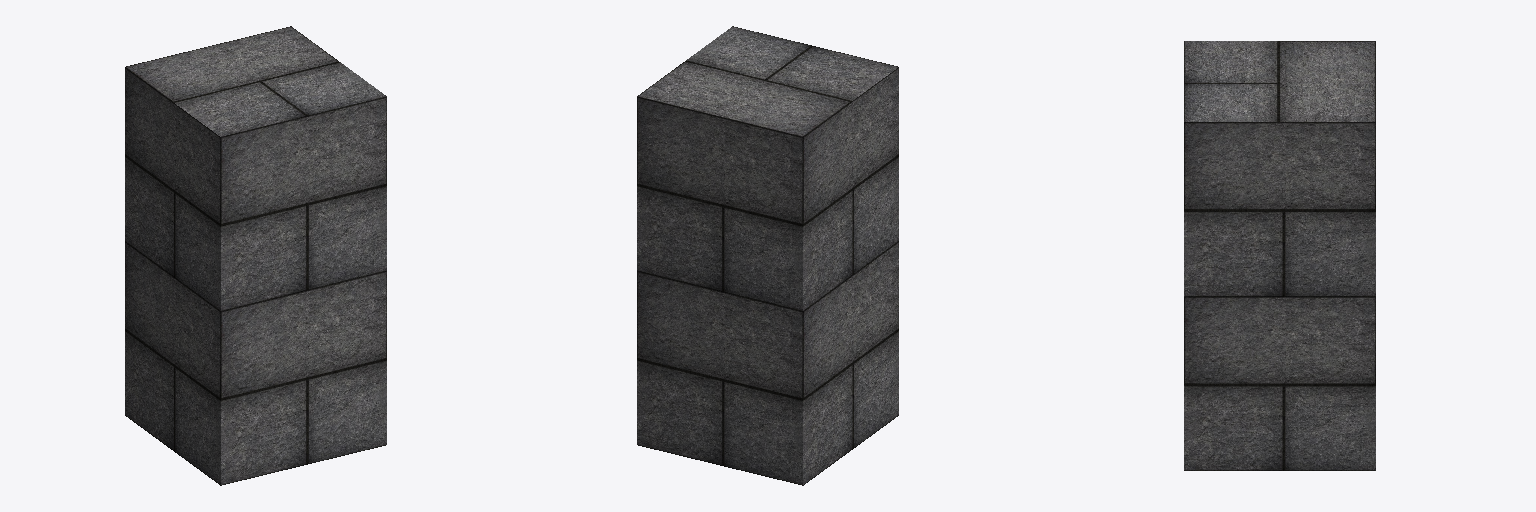
3 views of the same model, side by side, from view 1: azimuth 30°, elevation 25°; view 2: azimuth 150°, elevation 25°; view 3: azimuth 270°, elevation 25° (orthographic).
Parts seen in each view (by area): view 1: cube; view 2: cube; view 3: cube.
Boxes of the visible parts, x1,y1,x2,y2 form: cube: [125, 26, 386, 485]; cube: [637, 26, 898, 485]; cube: [1184, 41, 1375, 470].
Bounding box in the file's own units: 1 × 2 × 1.
1 materials, 1 textured.